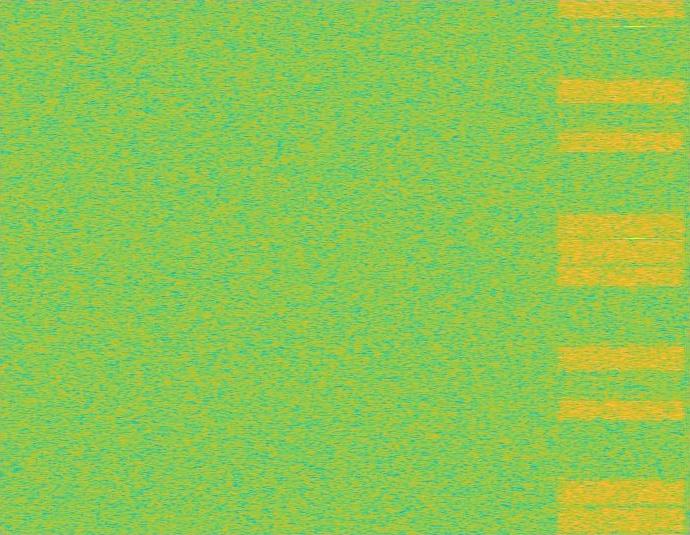LTE: (552, 0, 689, 534)
Radar: (628, 0, 642, 534)
